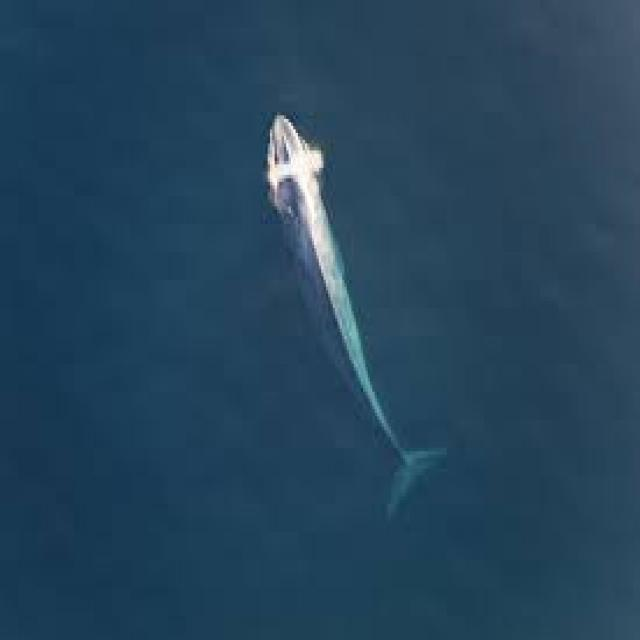blue_whale: (221, 90, 470, 580)
